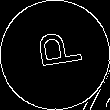P_W: (27, 33, 83, 77)
